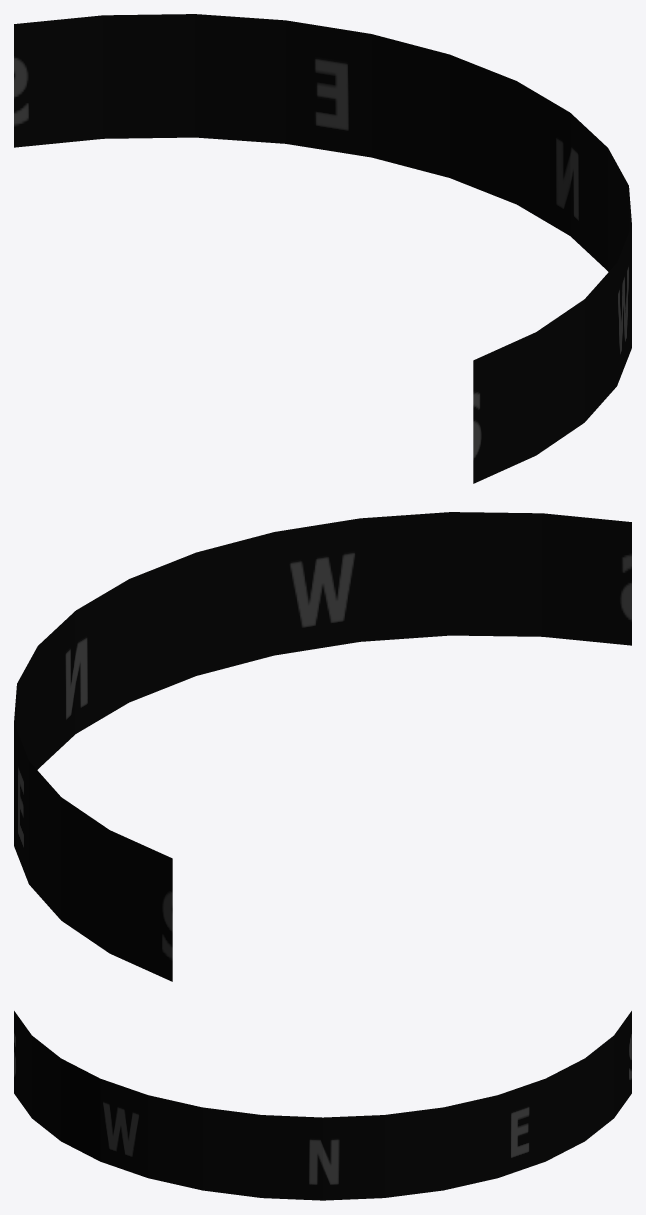
Rendered from Compass 1.fbx.
The picture shows the model from 3 angles, top to bottom: view 1: azimuth 30°, elevation 25°; view 2: azimuth 150°, elevation 25°; view 3: azimuth 270°, elevation 25°; orthographic projection. The views are drawn at different scales.
Parts seen in each view (by area): view 1: Cylinder; view 2: Cylinder; view 3: Cylinder.
Boxes of the visible parts, left/top/right/bottom form: Cylinder: left=14, top=14, right=631, bottom=483; Cylinder: left=14, top=512, right=631, bottom=981; Cylinder: left=14, top=1011, right=631, bottom=1200.
Bounding box in the file's own units: 80.49 × 29.1 × 196.
